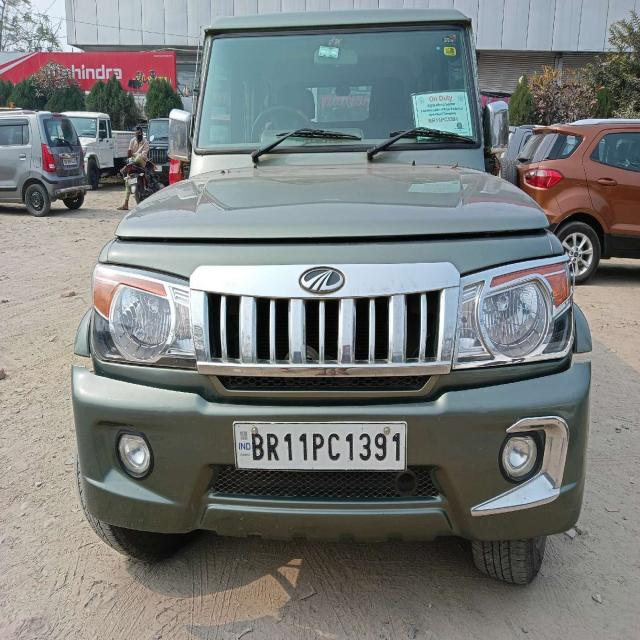light_vehicle: (73, 20, 583, 543)
